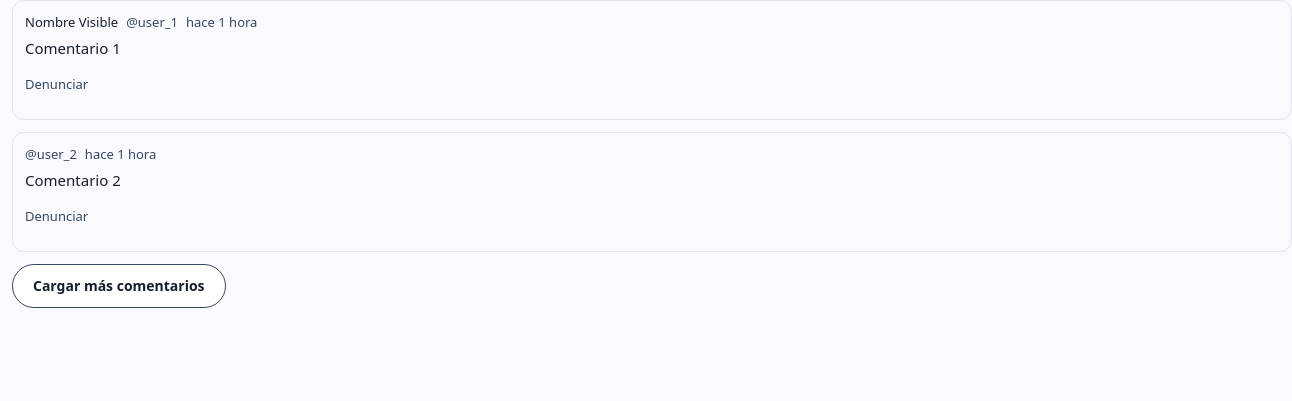
Scenario: CommentList (CMT-002) › «Cargar más» añade la página siguiente sin duplicar y desaparece al terminar
The width and height of the screenshot is (1292, 401).
What coordinates should you click on to do the following:
click the button "Cargar más comentarios"
I would click on:
 (119, 286)
Its box is [12,264,226,308].
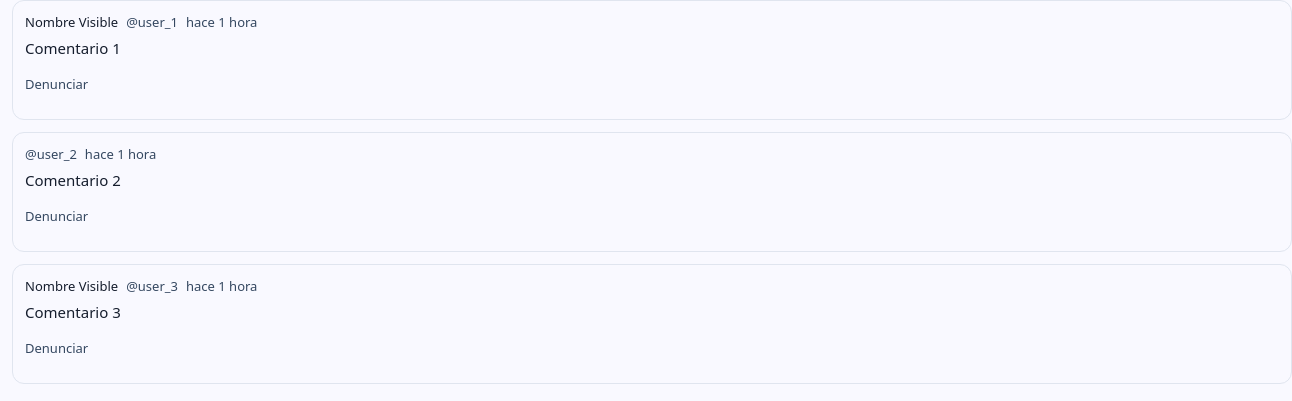
Check: the text "Comentario 2" is shown once, box [25,170,121,190]
Check: the text "Comentario 3" is shown, box [25,302,121,322]
Check: the button "Cargar más comentarios" is gone
